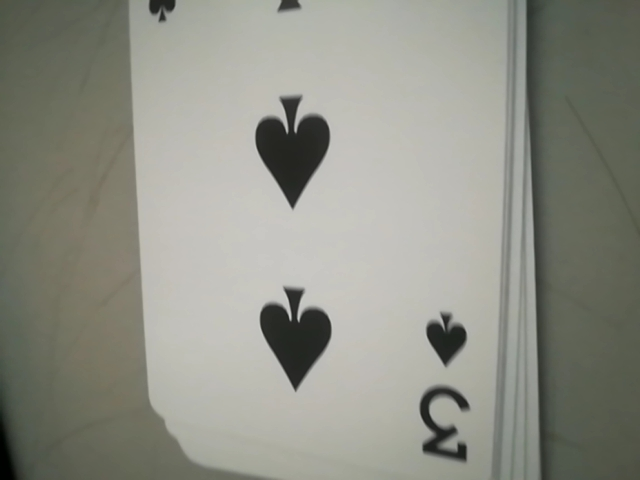ht 3: (413, 305, 481, 472)
